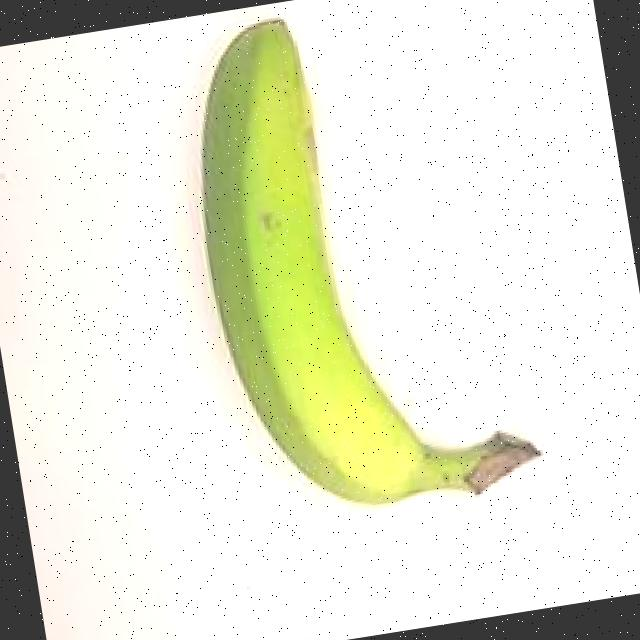Unripe: (137, 0, 558, 562)
